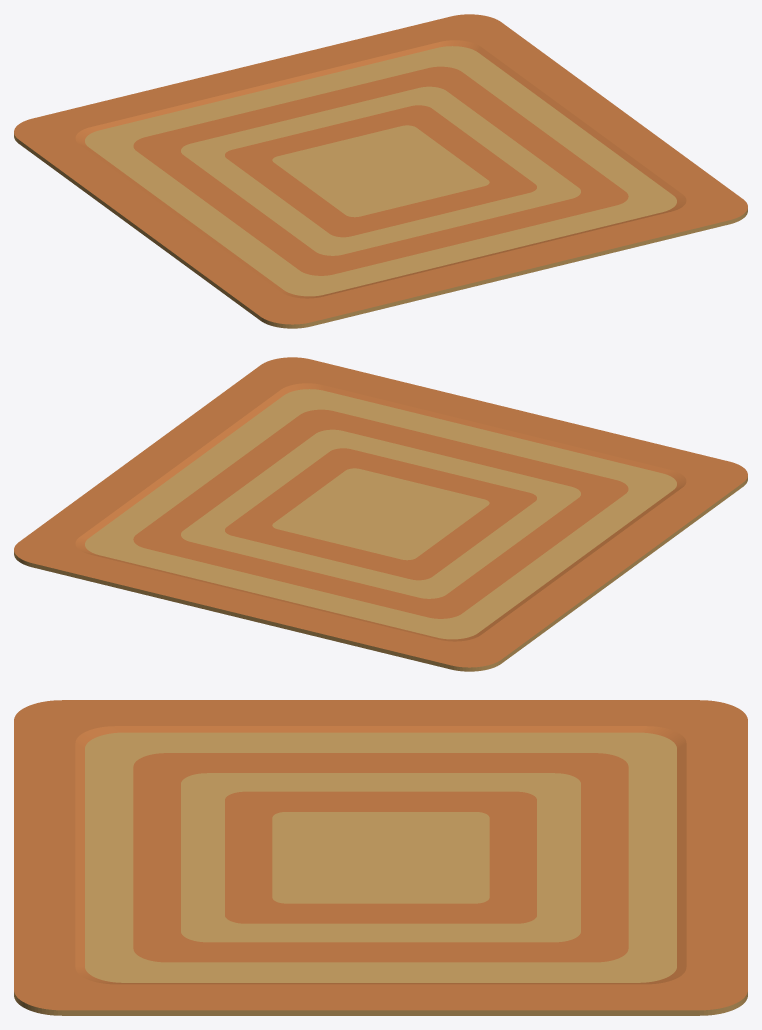
3 renders of one model, top to bottom at view 1: azimuth 30°, elevation 25°; view 2: azimuth 150°, elevation 25°; view 3: azimuth 270°, elevation 25°, orthographic. The views are drawn at different scales.
Visible parts, largest first — view 1: Plane.025; view 2: Plane.025; view 3: Plane.025.
Boxes of the visible parts, box(x1,y1,x2,y2) form: Plane.025: box(14, 14, 747, 328); Plane.025: box(14, 357, 747, 671); Plane.025: box(14, 700, 747, 1015).
Bounding box in the file's own units: 488 × 488 × 4.01.
